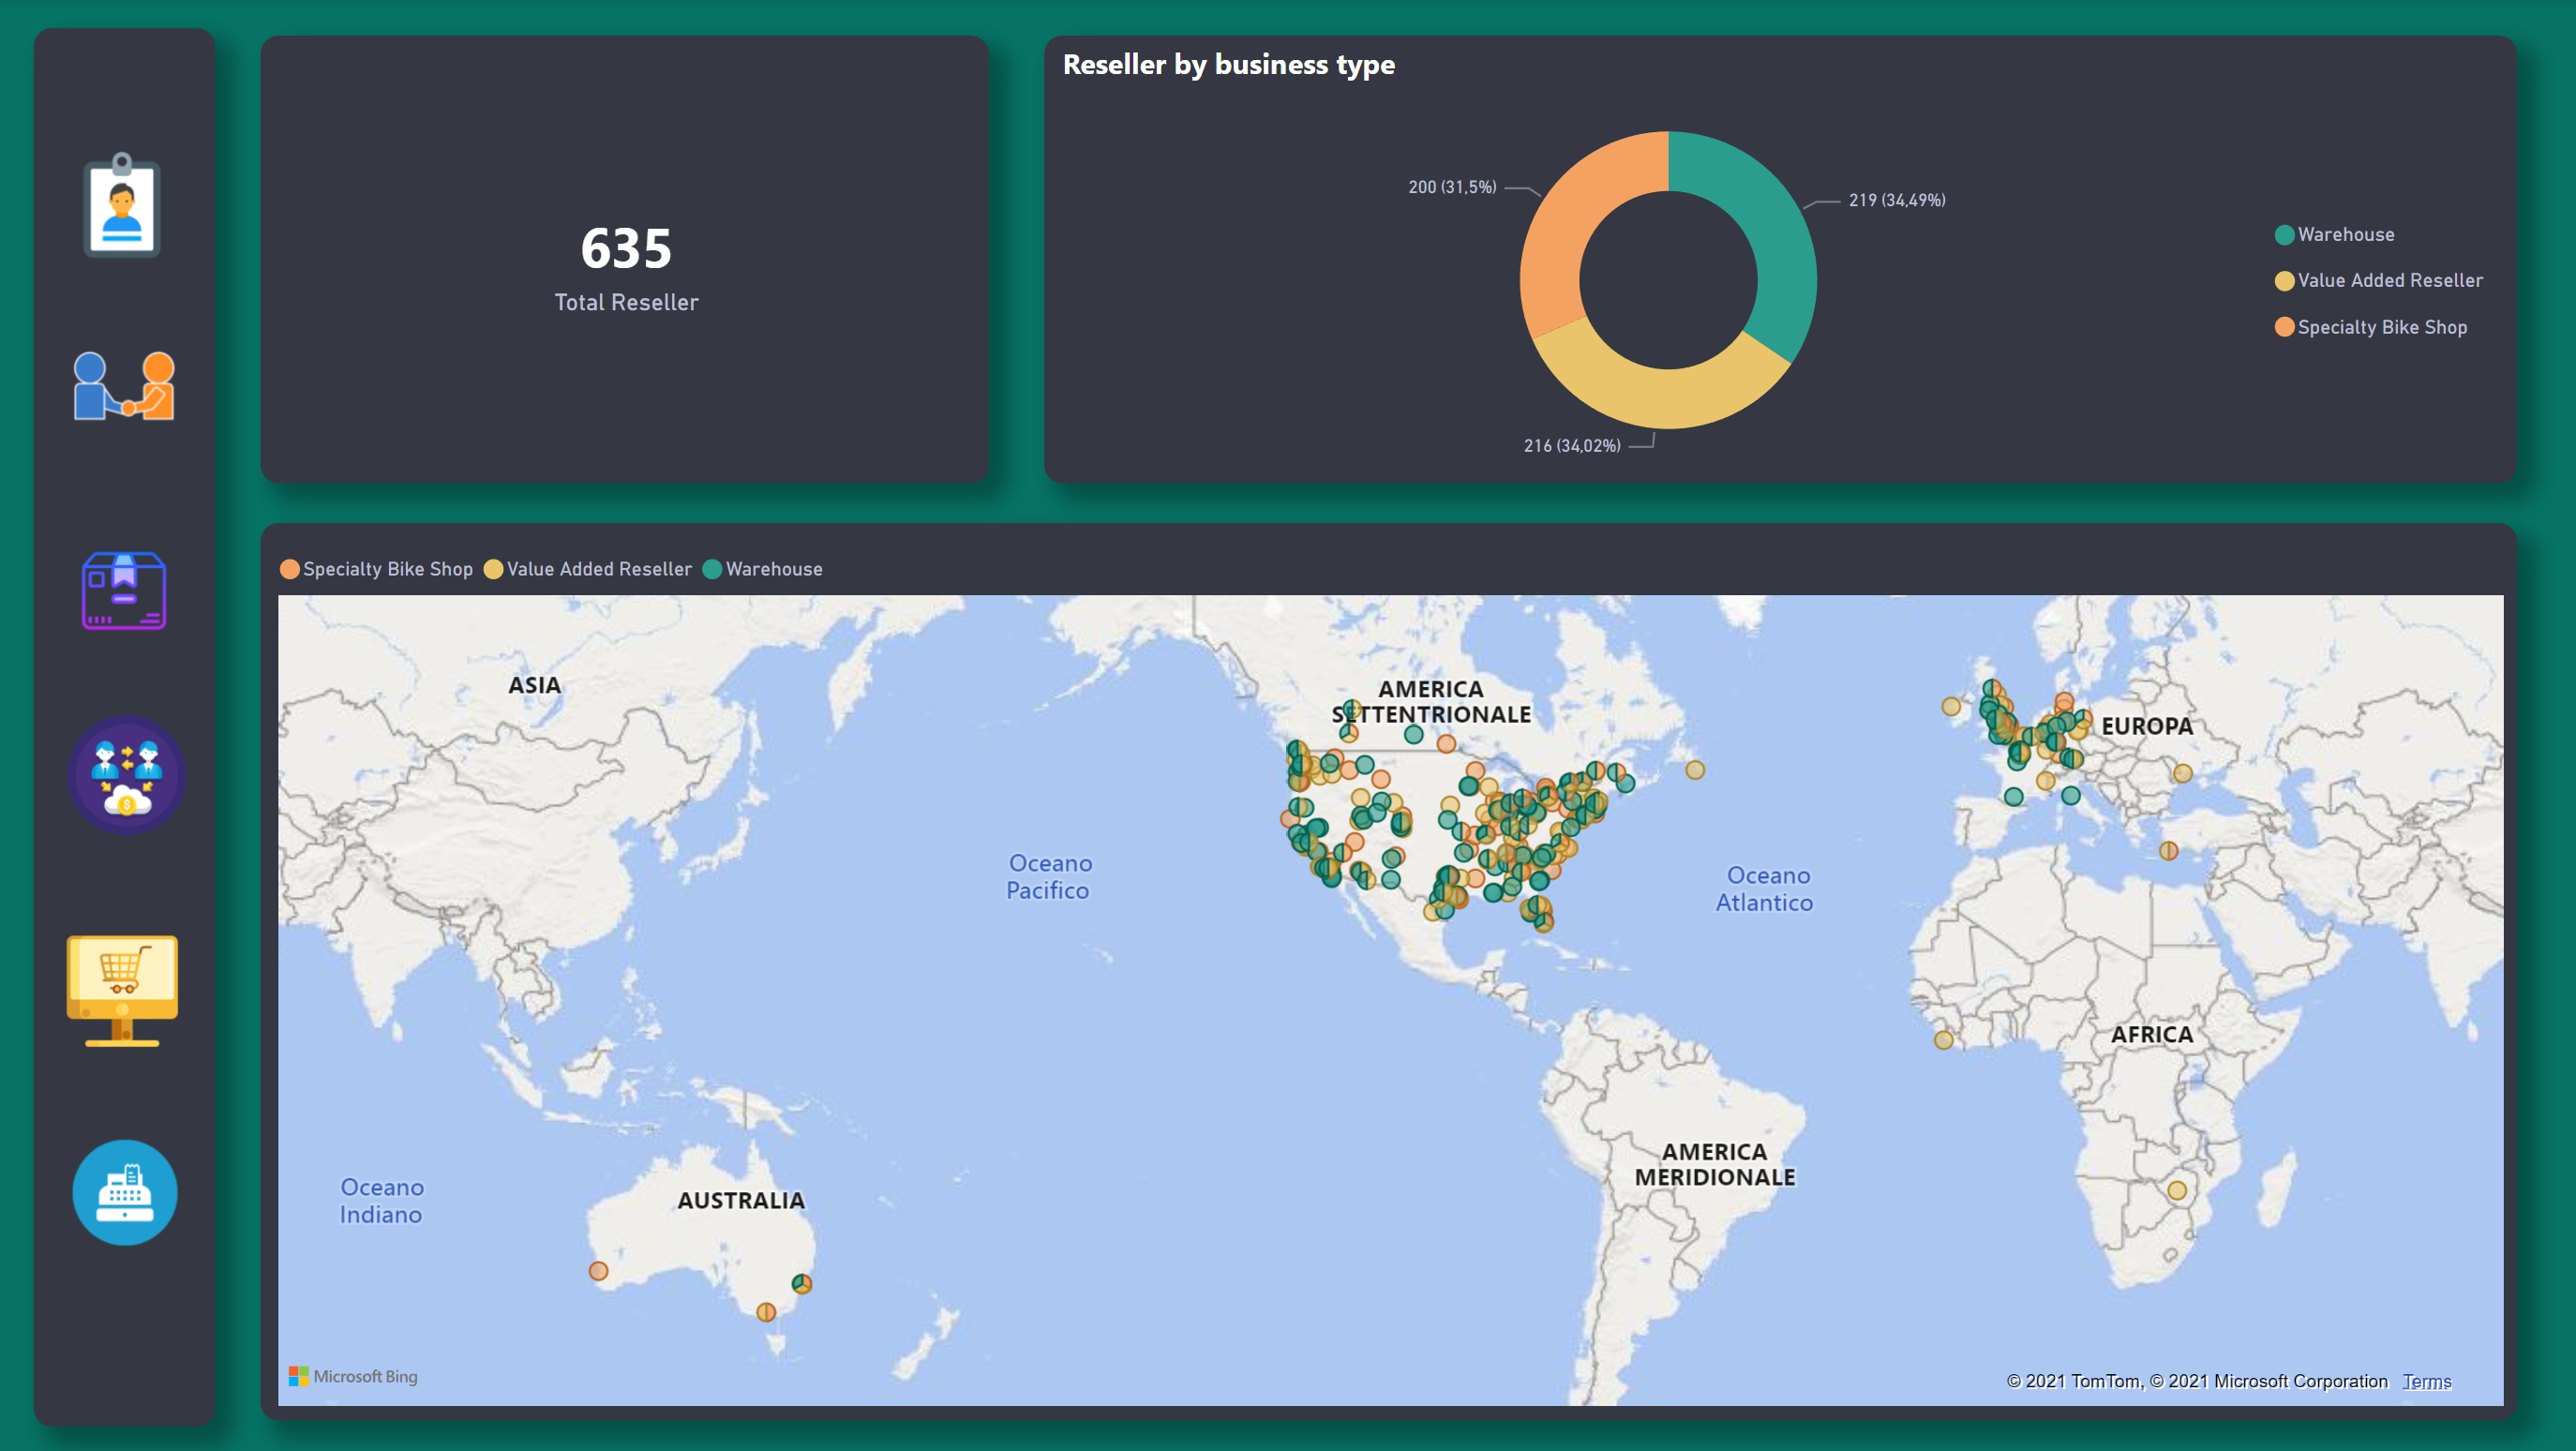

Layout of this report page (visuals, bound fields, positions):
{"tool":"powerbi","page":{"name":"Reseller","canvas":[1280,720],"ordinal":3},"visuals":[{"type":"card","fields":{"Values":["Count(DimReseller.ResellerKey)"]},"box":[131.2,18.1,359.5,220.8],"z":0},{"type":"donutChart","title":"Reseller by business type","fields":{"Category":["DimReseller.BusinessType"],"Y":["CountNonNull(DimReseller.ResellerKey)"]},"box":[518.4,18.1,726.4,220.8],"z":1000},{"type":"map","fields":{"Series":["DimReseller.BusinessType"],"Category":["DimGeography.City"]},"box":[131.2,259.2,1113.6,442.7],"z":2000},{"type":"shape","box":[19.2,14.9,89.6,690.1],"z":3000},{"type":"actionButton","title":"Employee","box":[30.9,67.2,65.1,69.3],"z":4000},{"type":"actionButton","box":[30.9,152.5,65.1,75.7],"z":5000},{"type":"actionButton","box":[30.9,253.9,65.1,75.7],"z":6000},{"type":"actionButton","box":[25.6,343.5,76.8,77.9],"z":7000},{"type":"actionButton","box":[25.6,452.3,76.8,72.5],"z":8000},{"type":"actionButton","box":[30.9,552.5,66.1,71.5],"z":9000}]}

Visuals, with their boxes on the page's 1280x720 design canvas (x1, y1, x2, y2). These are canvas units, not pixel positions in the 2576x1451 screenshot, which may show the page scaled, cropped or inside an application window:
card - Count(DimReseller.ResellerKey): x1=131, y1=18, x2=491, y2=239
"Reseller by business type" donutChart: x1=518, y1=18, x2=1245, y2=239
map - DimReseller.BusinessType x DimGeography.City: x1=131, y1=259, x2=1245, y2=702
shape: x1=19, y1=15, x2=109, y2=705
"Employee" actionButton: x1=31, y1=67, x2=96, y2=136
actionButton: x1=31, y1=152, x2=96, y2=228
actionButton: x1=31, y1=254, x2=96, y2=330
actionButton: x1=26, y1=344, x2=102, y2=421
actionButton: x1=26, y1=452, x2=102, y2=525
actionButton: x1=31, y1=552, x2=97, y2=624
